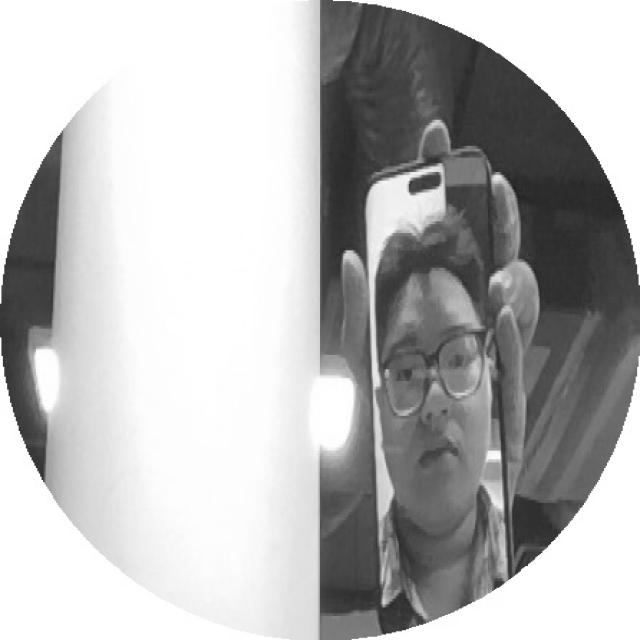fake: (346, 146, 525, 638), (354, 141, 521, 640)
